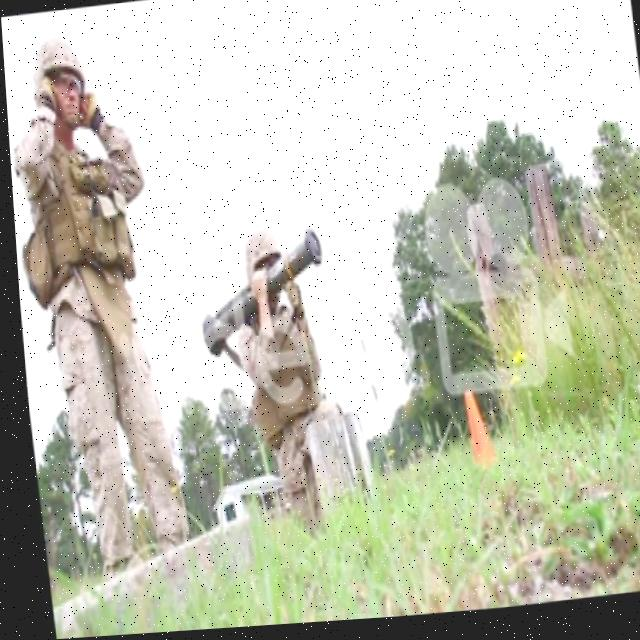rocket: (185, 230, 330, 362)
